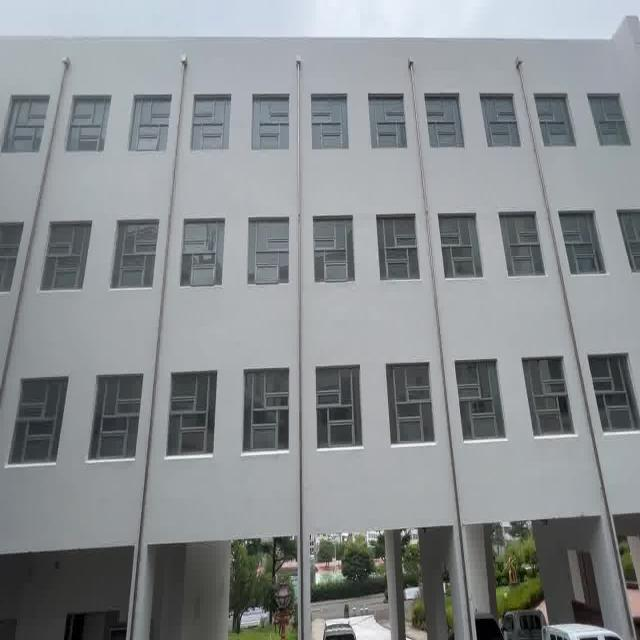building: (2, 19, 627, 508)
